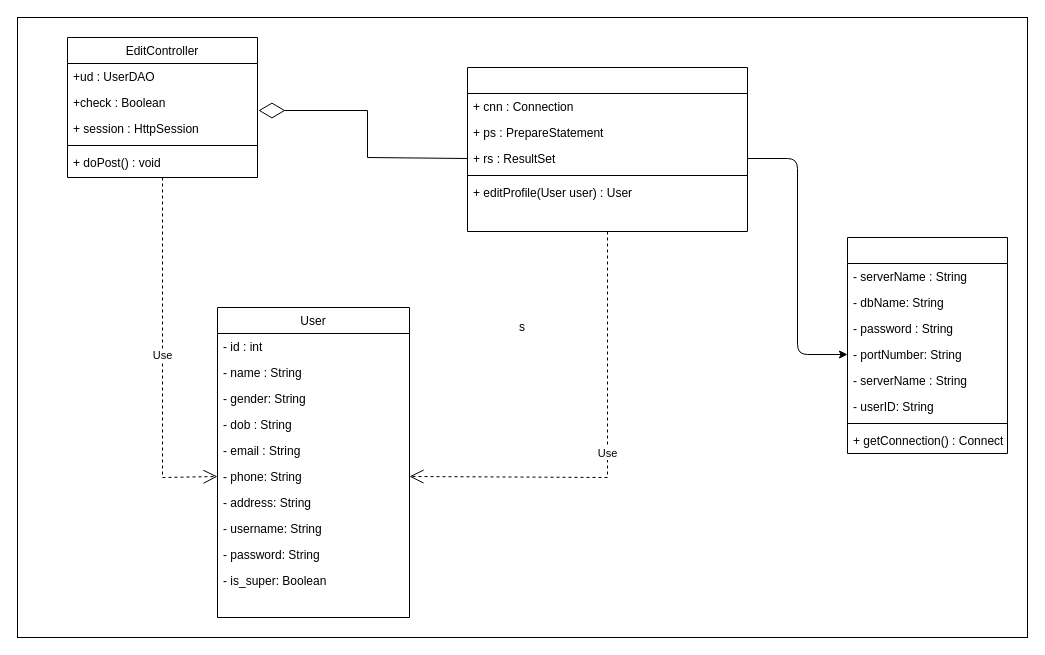
Some shapes in this 1045 by 655 pixel diagram are drawn without their labels. Here are the shapes that lost their labels. From the top down, the box of each, then its label:
(466, 66, 748, 232): UserDAO
(846, 236, 1008, 454): DBcontext
